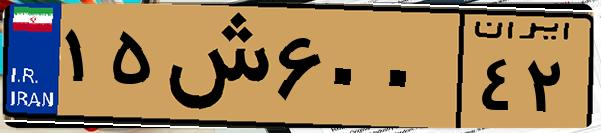0: (385, 28, 445, 110), (330, 28, 385, 110)
1: (57, 26, 110, 100)
2: (525, 38, 570, 115)
4: (475, 38, 525, 113)
5: (110, 28, 158, 98)
6: (270, 28, 330, 110)
ش: (158, 12, 270, 120)
